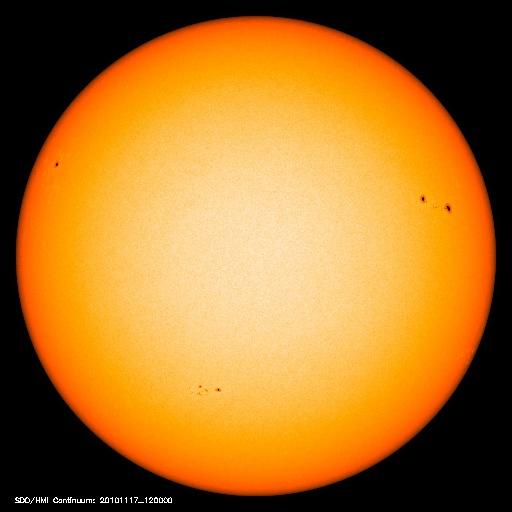sunspot: (412, 186, 456, 218), (183, 375, 229, 404), (44, 153, 70, 178)
